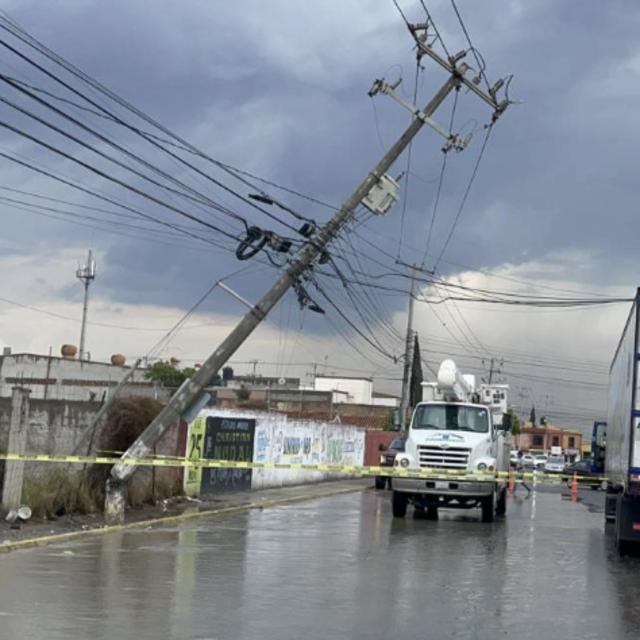Inclined Pole: (104, 16, 521, 519)
